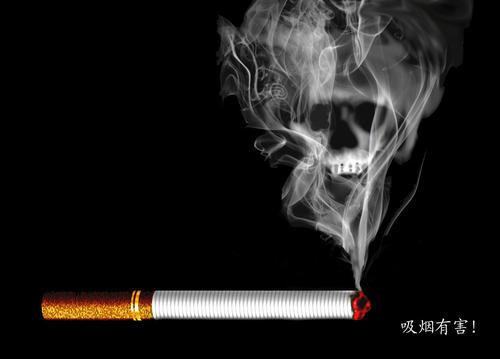smoke: (35, 284, 374, 331)
